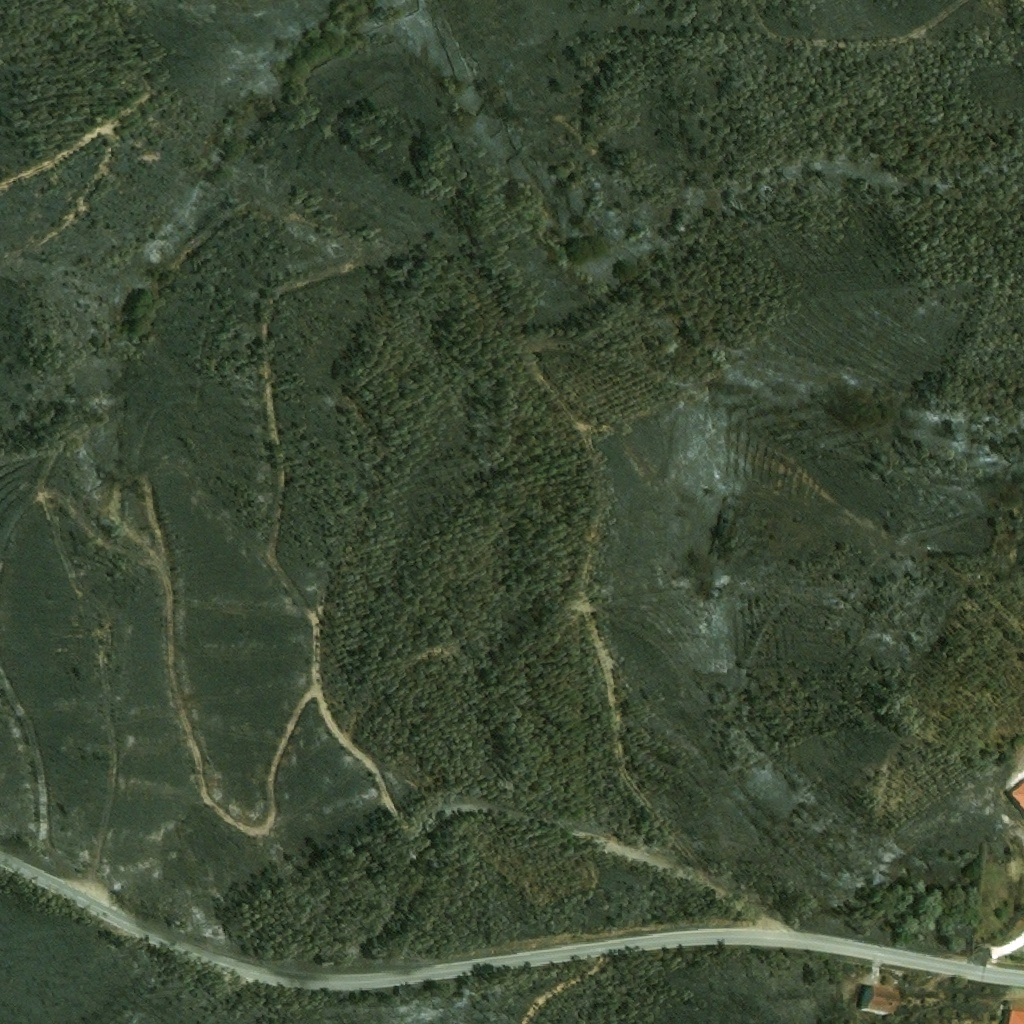0 no-damage: (860, 985, 899, 1017)
4 un-classified: (1009, 782, 1023, 812), (1007, 1011, 1023, 1023)
